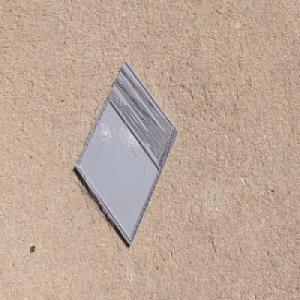PlasticPart: (73, 57, 179, 248)
